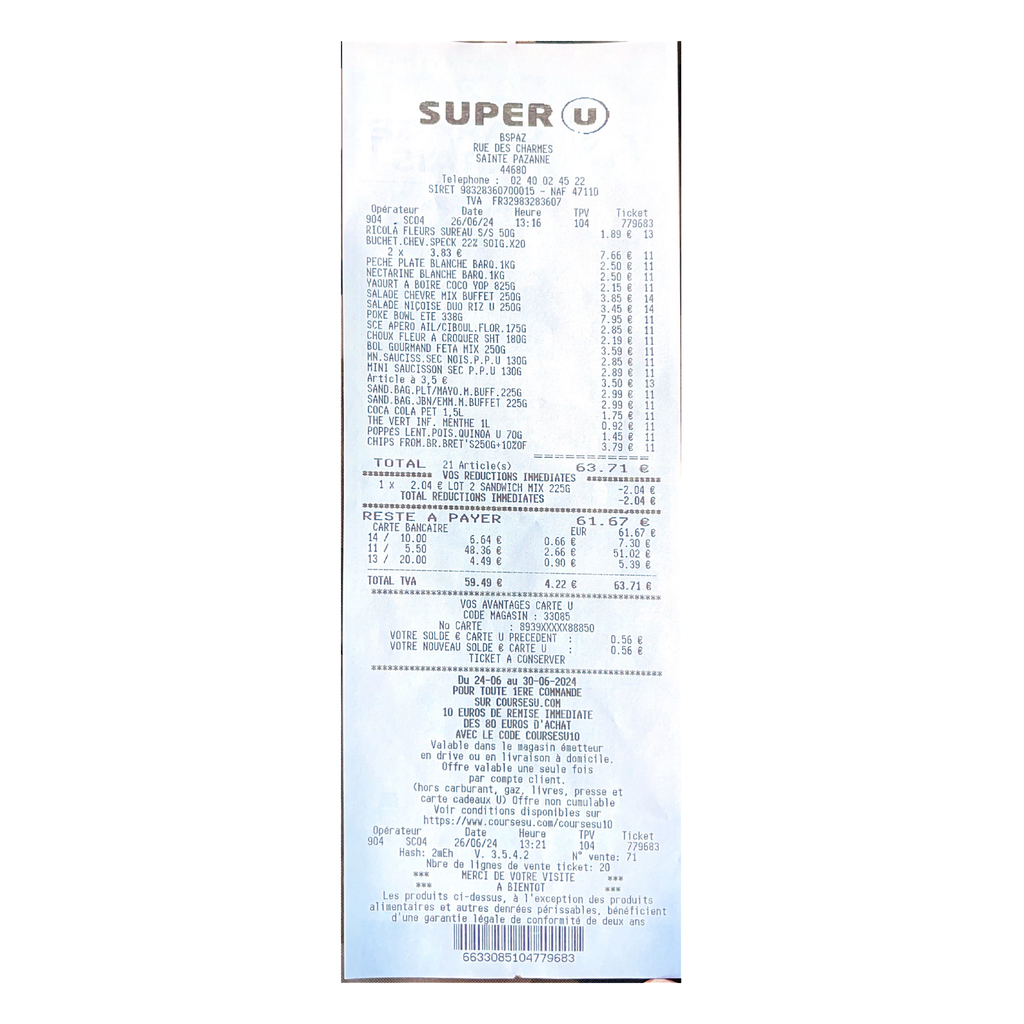recipt: (344, 42, 678, 986)
